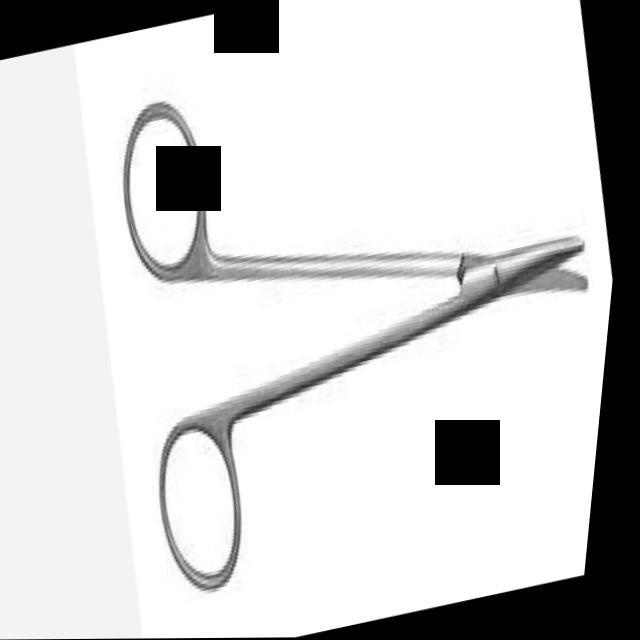Metzenbaum Sciccors: (65, 0, 640, 610)
